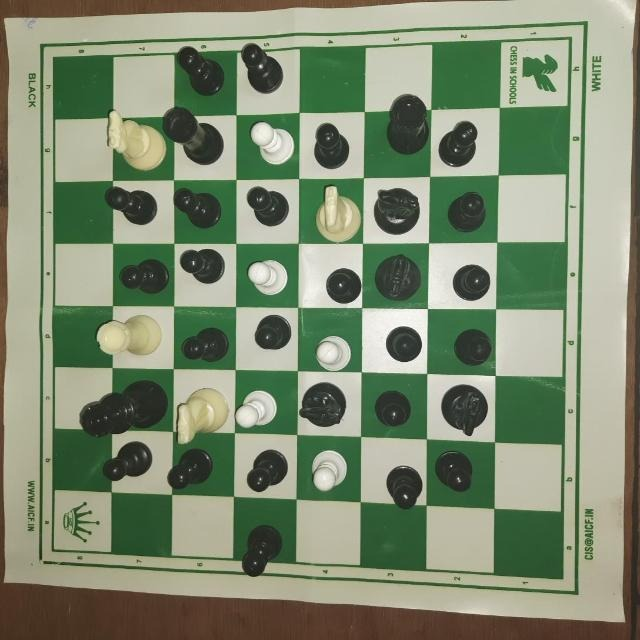black-king: (74, 376, 170, 442)
black-knight: (439, 385, 493, 436), (299, 383, 353, 433), (371, 183, 422, 235), (371, 254, 422, 304)
black-pawn: (174, 45, 232, 102), (104, 184, 160, 236), (102, 439, 159, 490), (174, 183, 226, 234), (114, 254, 169, 299), (163, 447, 219, 491), (239, 525, 284, 579), (242, 41, 286, 95), (240, 447, 289, 495), (178, 246, 226, 294), (178, 323, 226, 371), (439, 118, 483, 170), (383, 456, 425, 510), (444, 187, 491, 235), (243, 183, 289, 231), (434, 448, 479, 496), (449, 257, 493, 306), (373, 386, 415, 434), (313, 122, 352, 171), (251, 313, 293, 355), (323, 264, 361, 308), (450, 326, 491, 366), (383, 324, 424, 362)
black-rook: (158, 103, 225, 179), (383, 95, 433, 159)
white-knight: (100, 109, 170, 174), (170, 384, 231, 448), (310, 184, 359, 242)
white-pawn: (249, 121, 296, 171), (234, 386, 281, 434), (246, 252, 293, 298), (306, 447, 351, 494), (308, 334, 358, 374)
white-rook: (96, 308, 166, 363)
